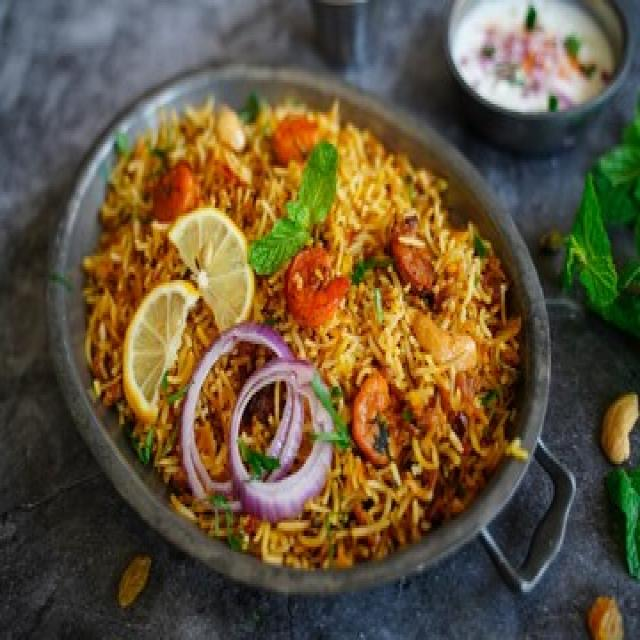BIRIYANI: (82, 93, 535, 571)
